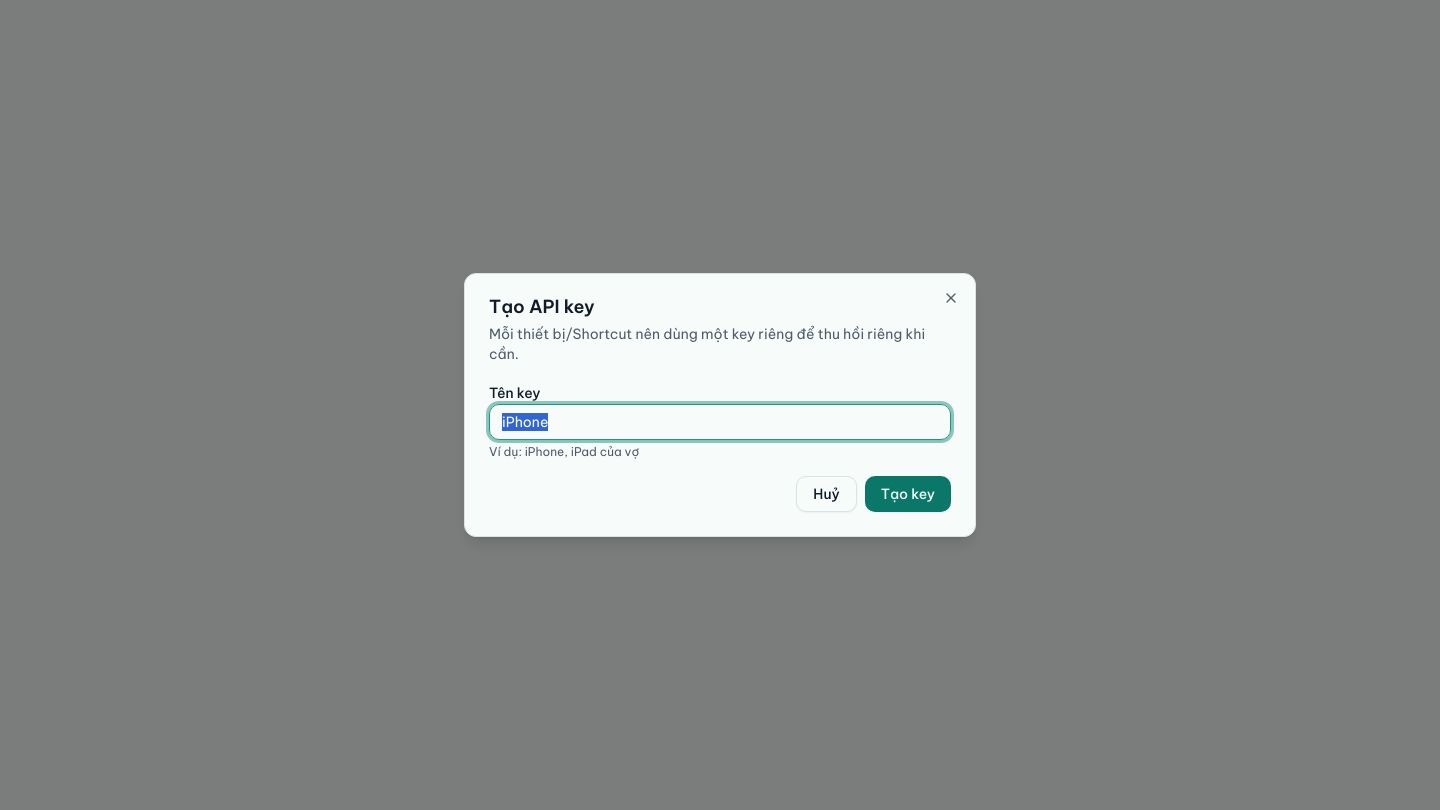
Scenario: CreateApiKeyDialog — bước 1: đặt tên › gửi tên đã trim; key hiện SAU KHI tạo, kèm URL Shortcut
Replace the text in the field labelled "Tên key" with "  iPad  ": (720, 422) [489,404,951,440]
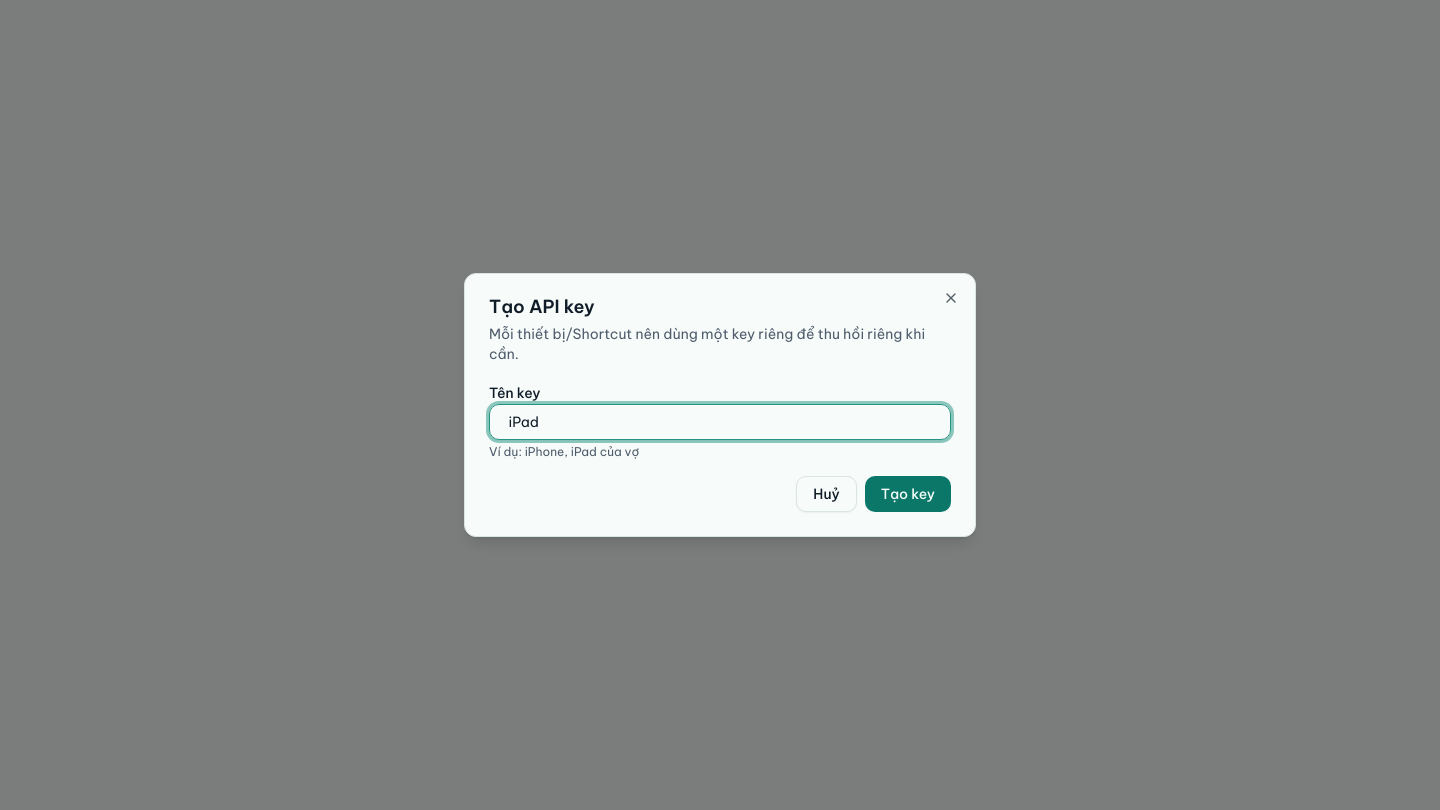
Click the button "Tạo key": click(908, 494) [865,476,951,512]
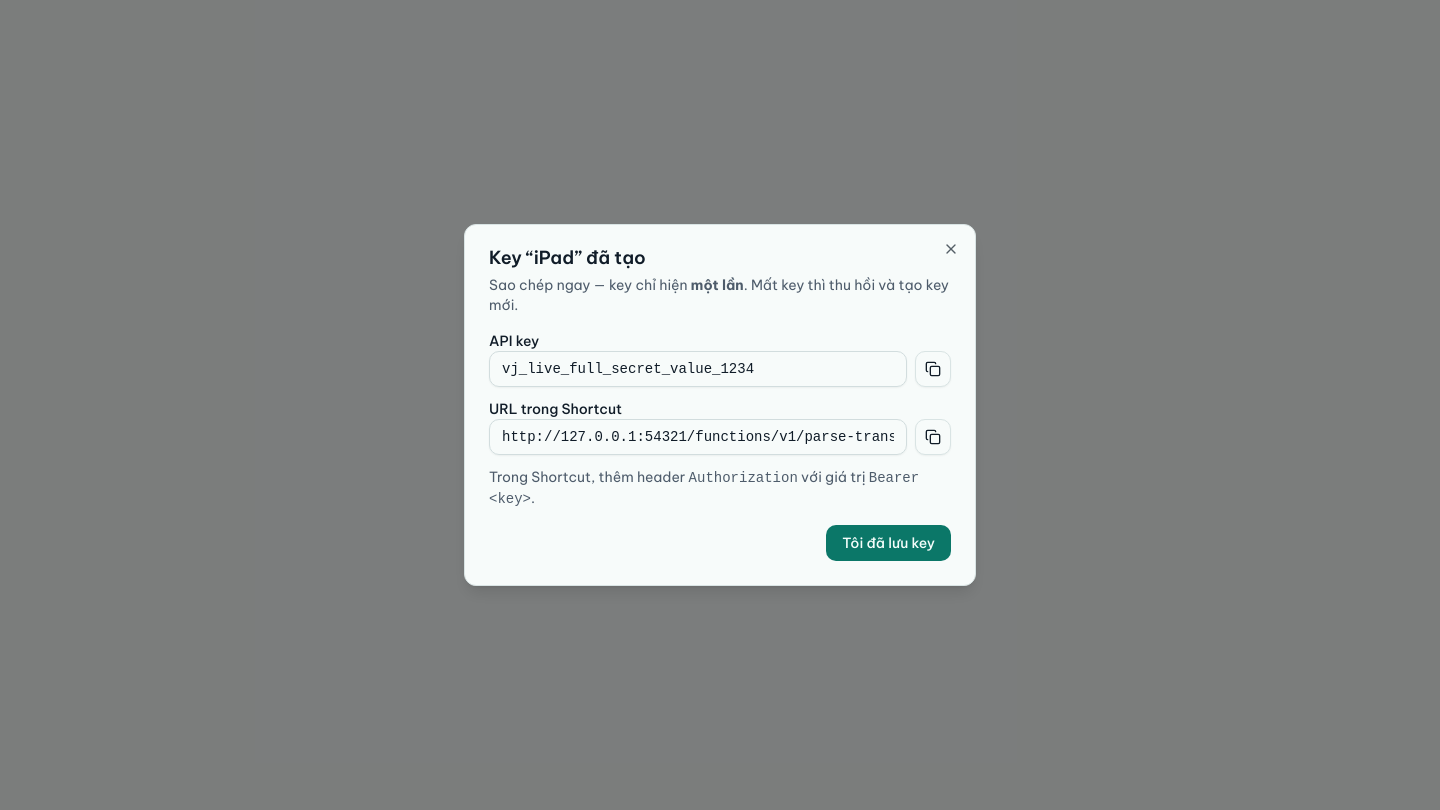
Now the field showing "vj_live_full_secret_value_1234" is shown, box [489,351,907,387]
Now the heading "Key “iPad” đã tạo" is shown, box [489,246,646,269]
Now the label labelled "Tên key" is gone
